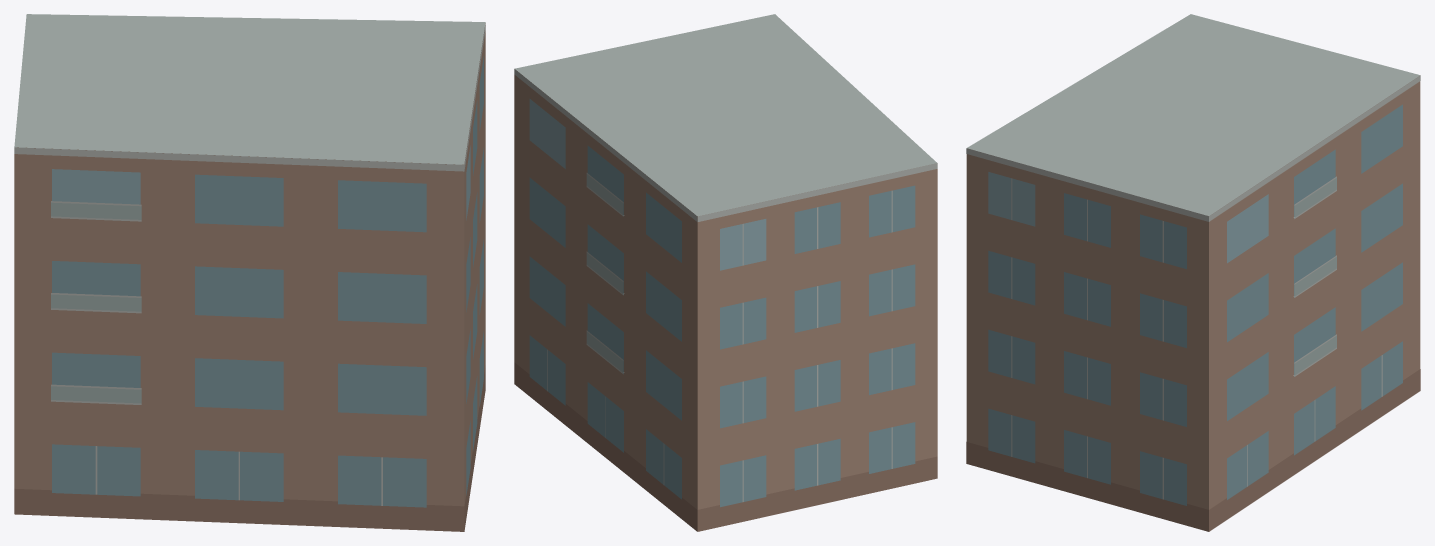
The model's file is survey-upis-32986205.glb.
3 views of the same model, side by side, from view 1: azimuth 30°, elevation 25°; view 2: azimuth 150°, elevation 25°; view 3: azimuth 270°, elevation 25° (orthographic). The views are drawn at different scales.
Visible parts, largest first — view 1: survey-upis-32986205.tmp; view 2: survey-upis-32986205.tmp; view 3: survey-upis-32986205.tmp.
Boxes of the visible parts, <box> form: survey-upis-32986205.tmp: <box>14,14,485,531</box>; survey-upis-32986205.tmp: <box>514,14,937,531</box>; survey-upis-32986205.tmp: <box>966,14,1420,531</box>.
Size of the model in its own units: 18.28 by 13.3 by 17.34.
